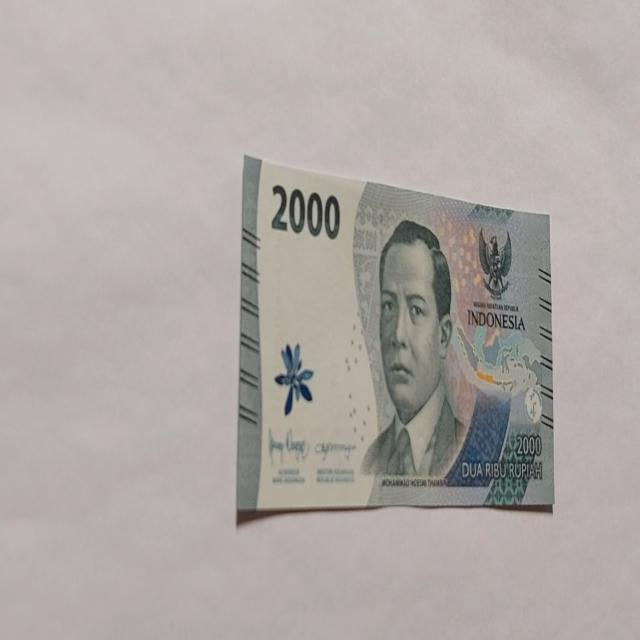dua ribu rupiah: (237, 154, 555, 516), (358, 215, 542, 501)
